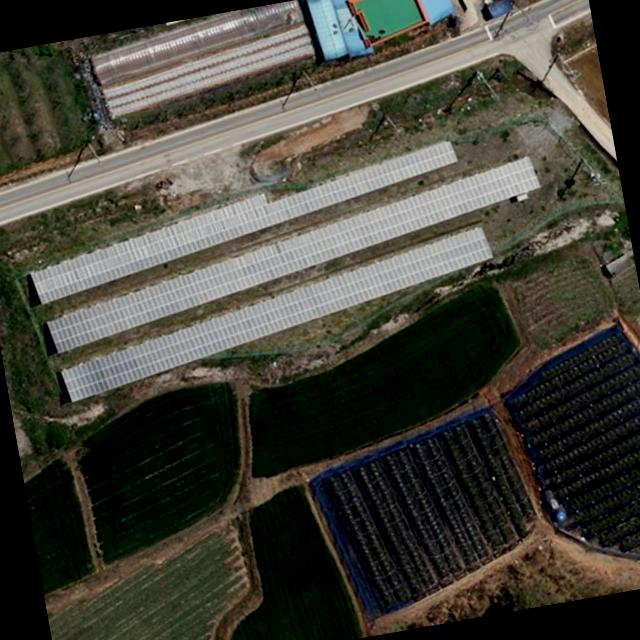solar: (31, 150, 556, 355), (46, 220, 507, 404), (16, 134, 470, 306)
